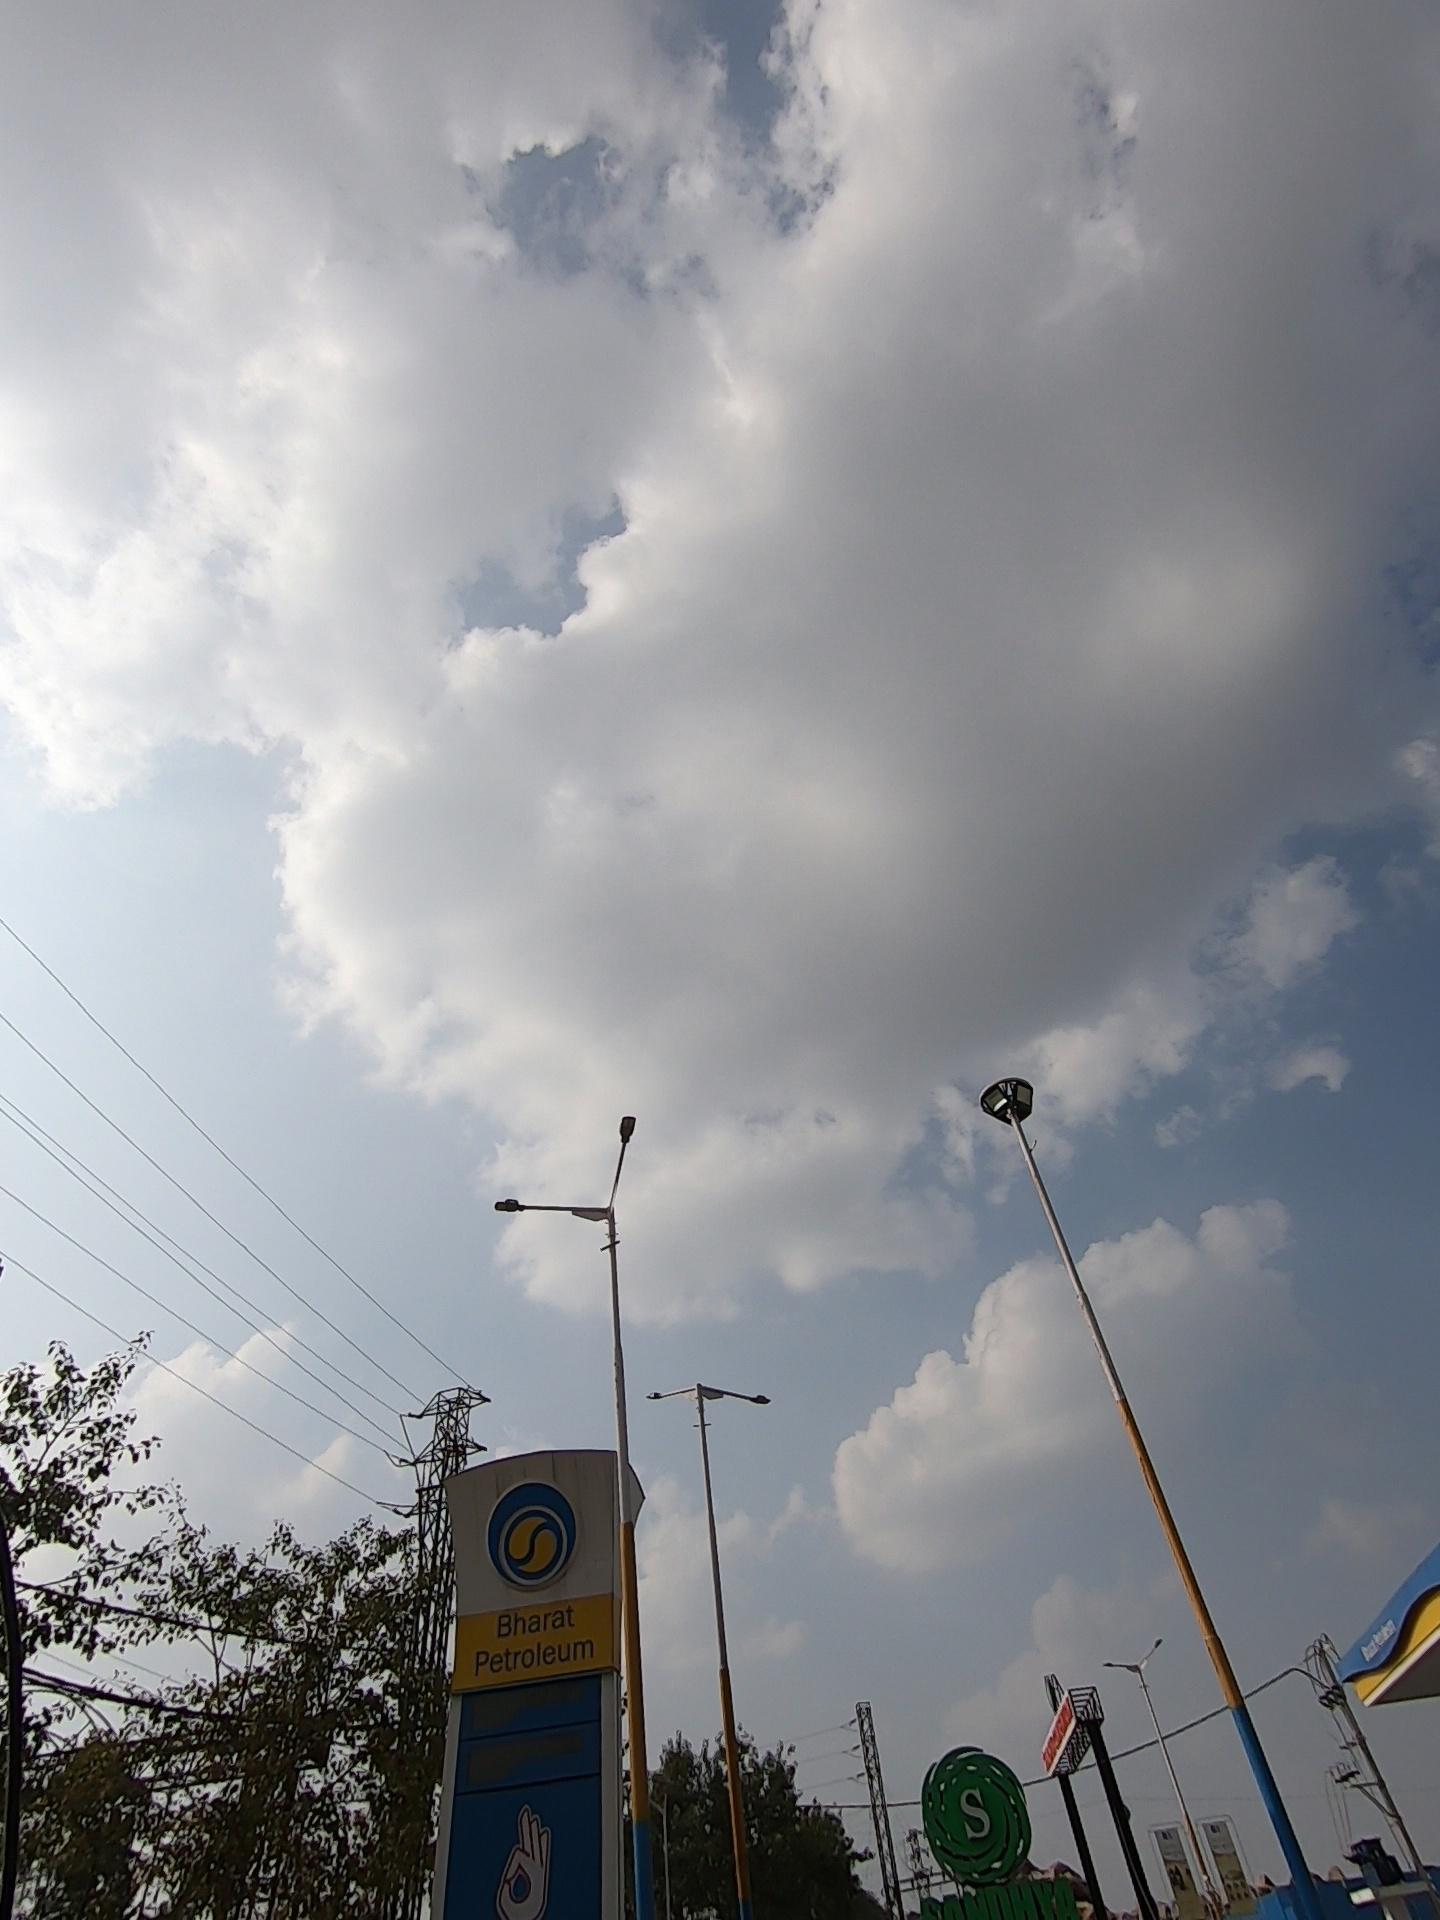off: (894, 971, 1165, 1167), (473, 1150, 717, 1261)
